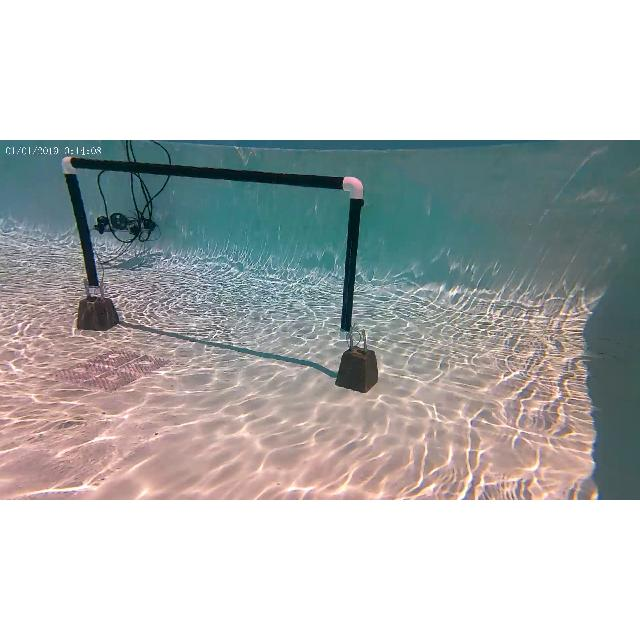prequal gate: (60, 156, 364, 338)
prequal gate leg l: (59, 152, 108, 298)
prequal gate leg r: (334, 168, 364, 348)
